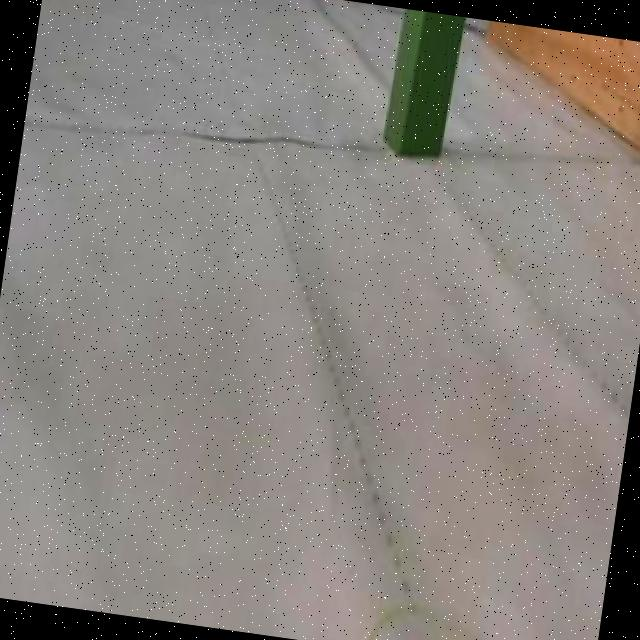greenbox: (378, 9, 468, 164)
